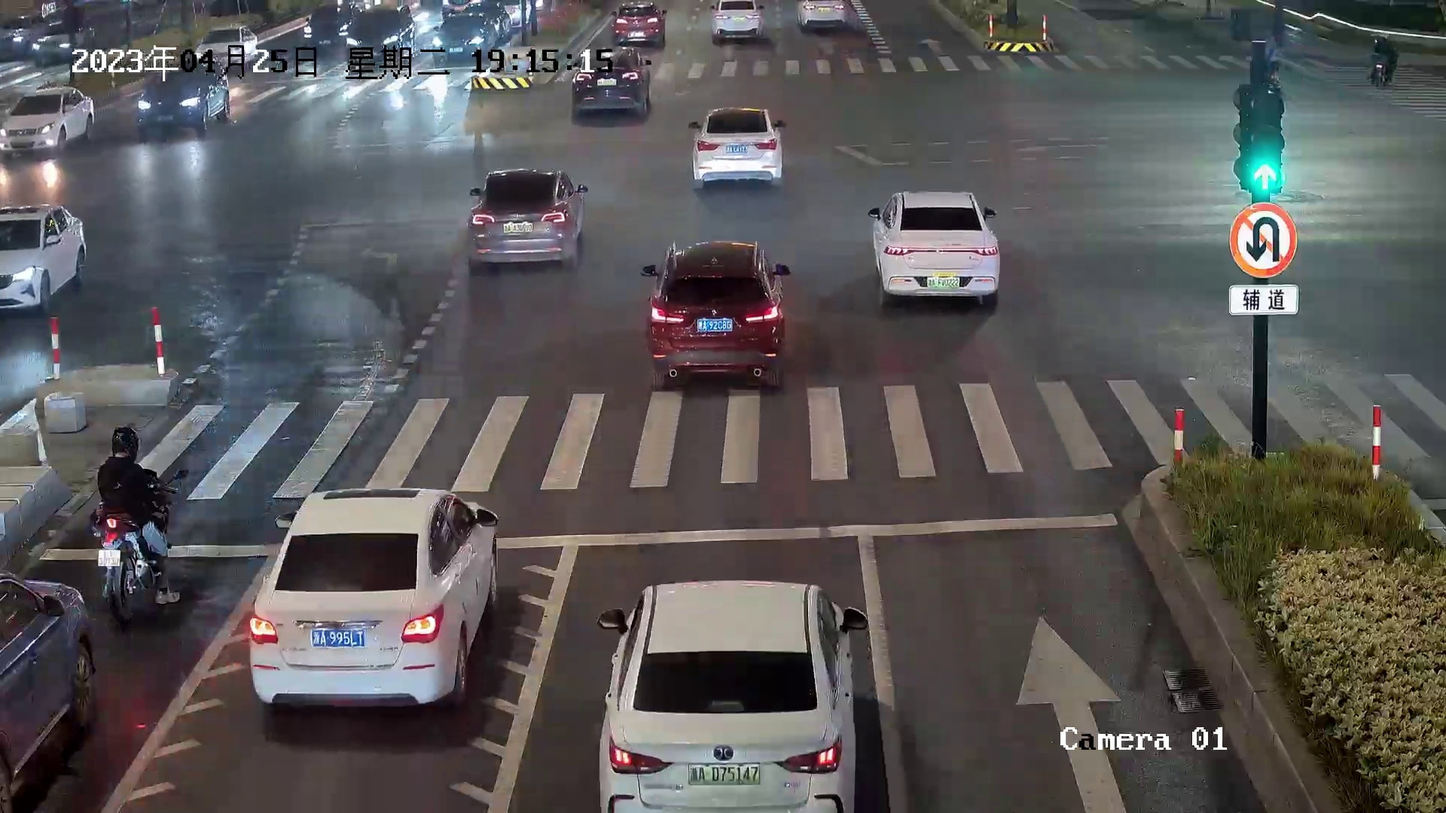person: (99, 424, 169, 607)
vehicle: (593, 580, 865, 810), (246, 486, 496, 711), (0, 556, 96, 808), (643, 241, 788, 389), (865, 186, 1002, 300), (90, 478, 175, 617), (465, 168, 584, 260), (0, 196, 90, 314), (687, 102, 783, 187), (133, 59, 230, 137), (0, 86, 99, 154), (572, 41, 651, 114), (347, 3, 411, 61), (195, 21, 259, 69), (429, 14, 490, 59), (609, 4, 667, 48), (709, 2, 766, 44), (301, 5, 350, 46), (798, 2, 850, 38)
